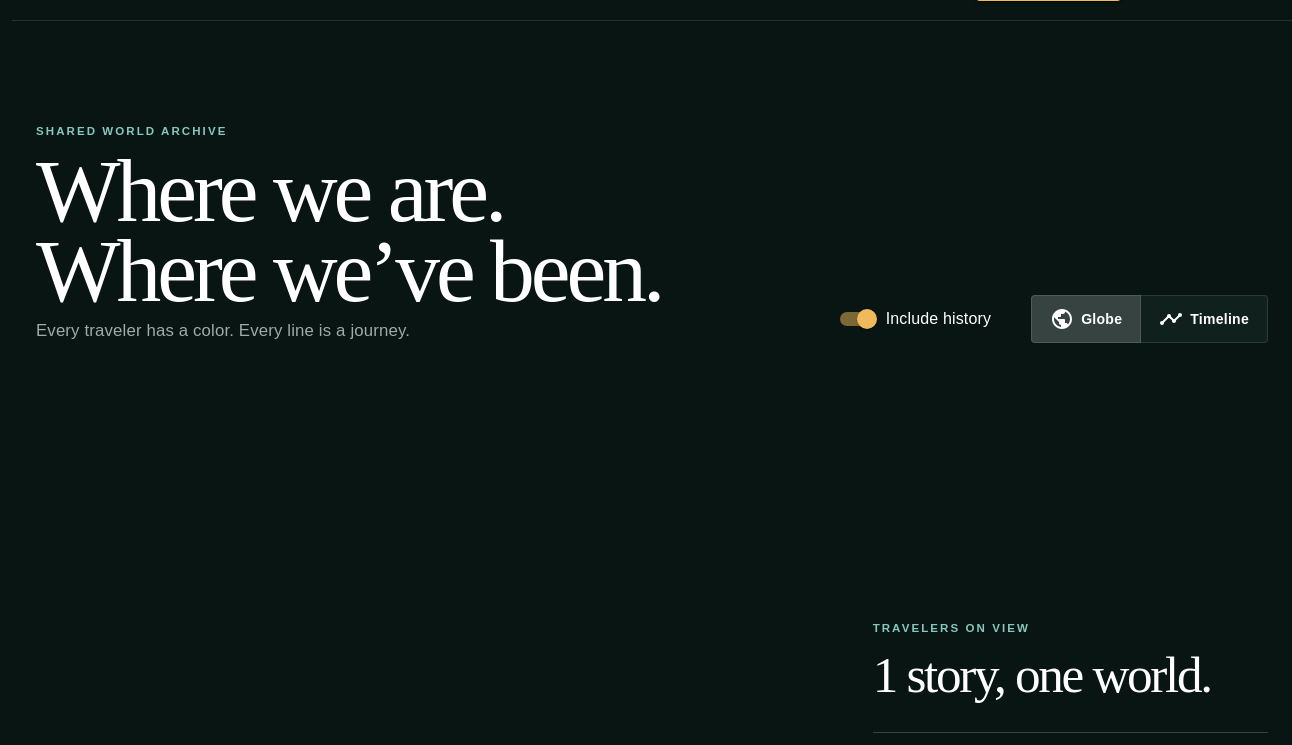
Test case: globe and timeline choices persist in the URL
Click the button "Timeline": (1204, 319) top-left (1140, 295), bottom-right (1268, 343)
(page scrolled)
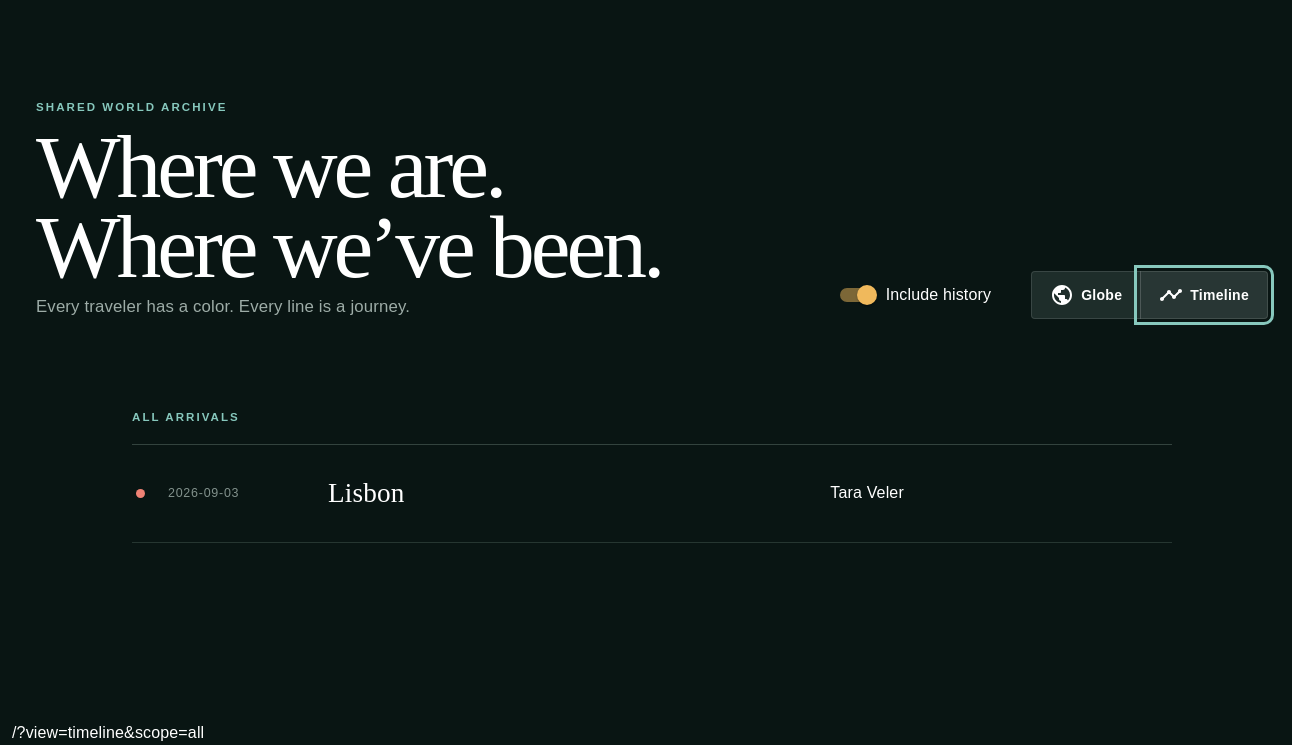
Now the text named "Current URL" reads "/?view=timeline&scope=all", box top-left (17, 724), bottom-right (204, 741)
